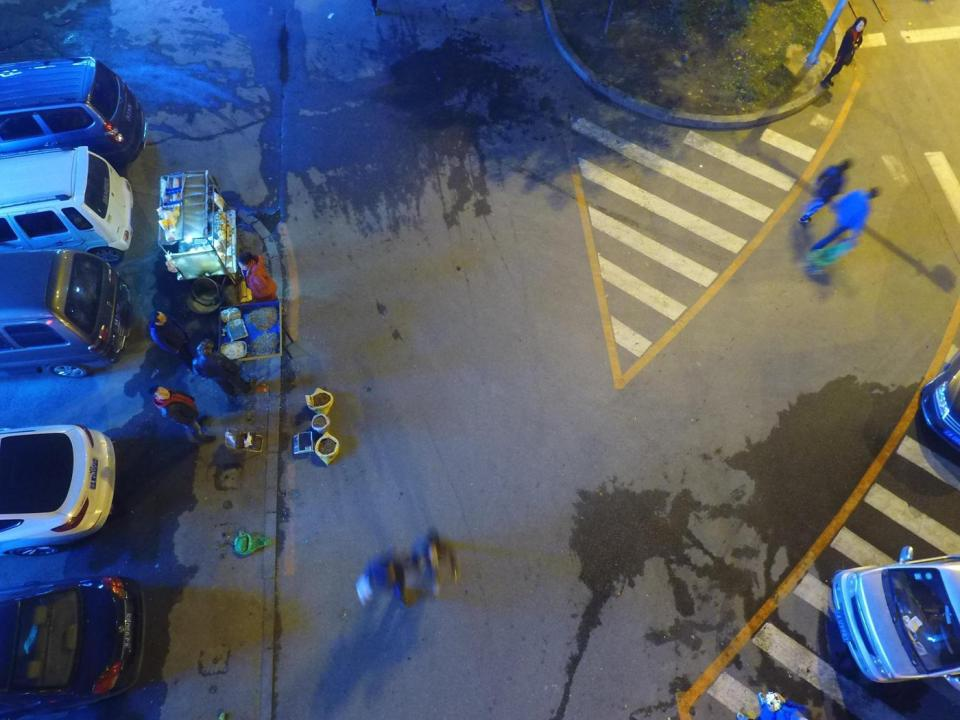car: (1, 576, 144, 720), (2, 426, 115, 557)
van: (831, 546, 960, 682), (1, 251, 130, 377), (0, 56, 147, 163), (1, 146, 133, 263)
